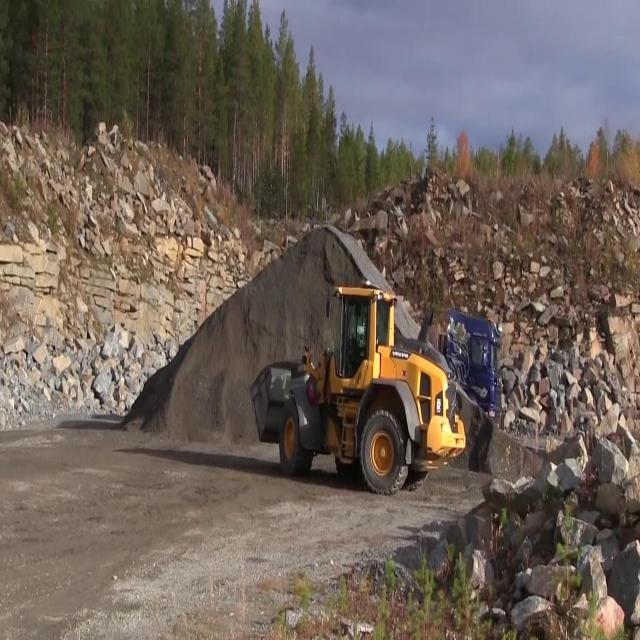Dump Truck: (446, 304, 504, 427)
Loader: (248, 278, 464, 508)
